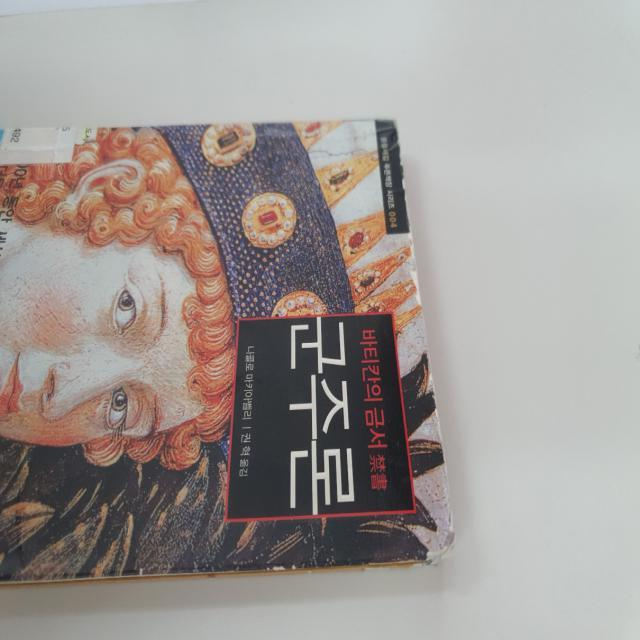Wornout: (429, 372, 453, 501), (423, 503, 459, 567), (409, 224, 426, 310), (396, 141, 408, 204), (367, 557, 424, 570), (262, 557, 298, 573), (132, 562, 150, 578)
